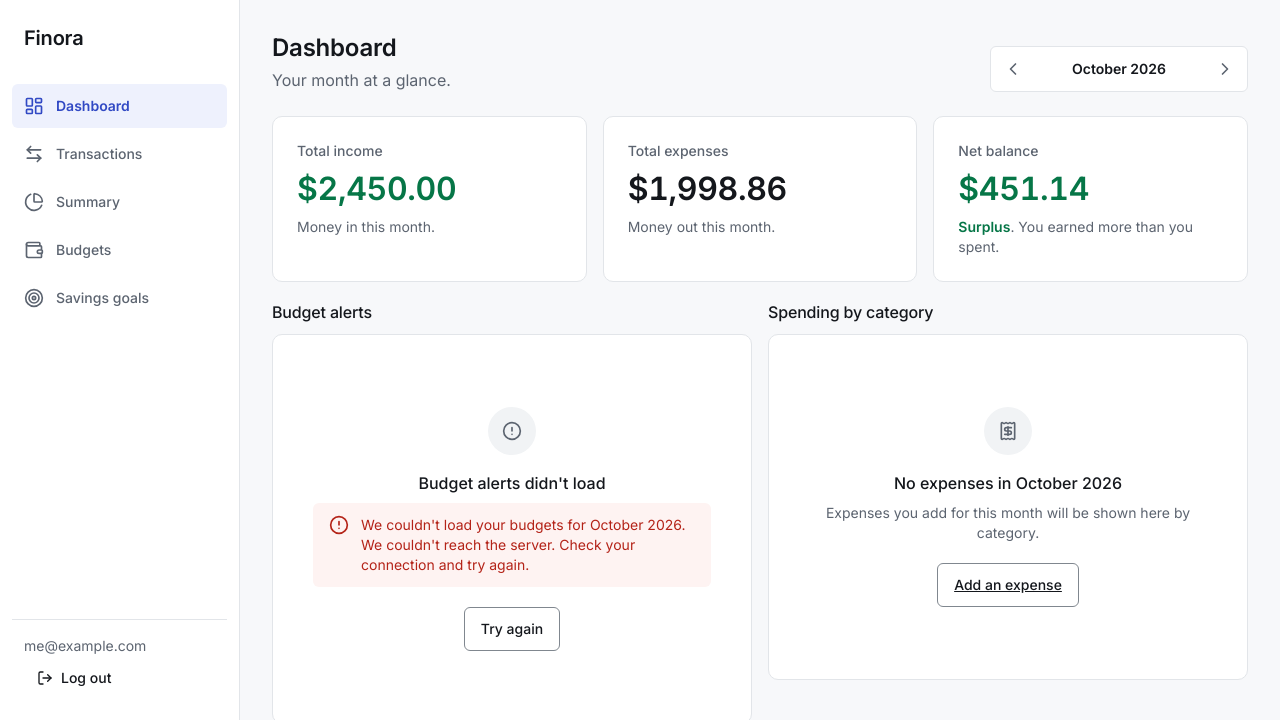
Test: budget alerts panel (US-41) › shows an error with Try again when the alerts do not load, and Try again loads them
The image size is (1280, 720).
Expected: the text "Total income" is shown, [297,142,383,159]
Expected: the text "We couldn't load your budgets for October 2026." is shown, [361,516,686,573]
Click the button "Try again": (512,629) [464,607,560,651]
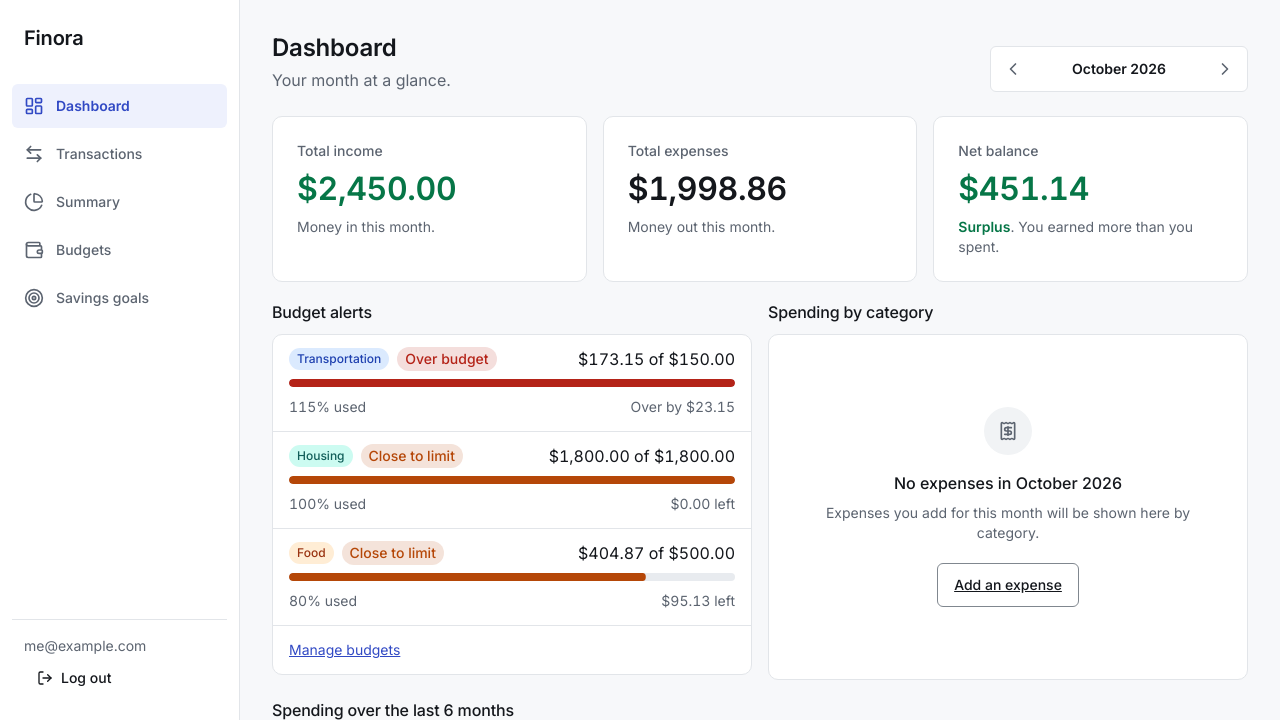
Expected: the text "Transportation" is shown, [289,348,389,370]
